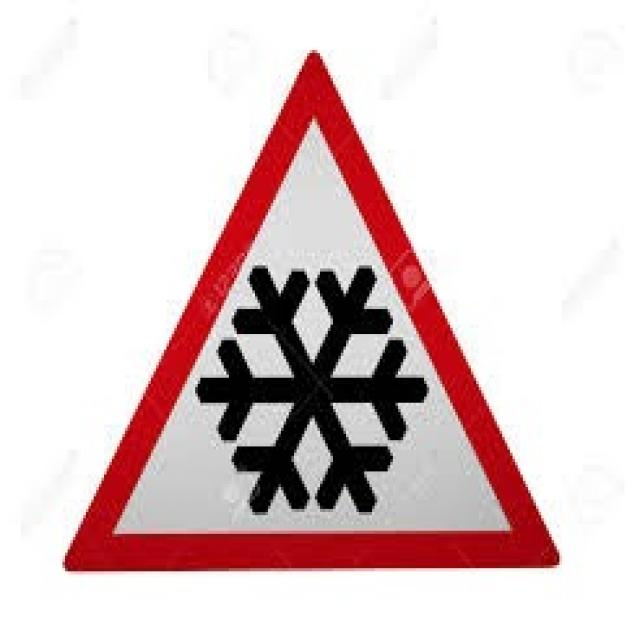snow_warning: (57, 47, 562, 572)
